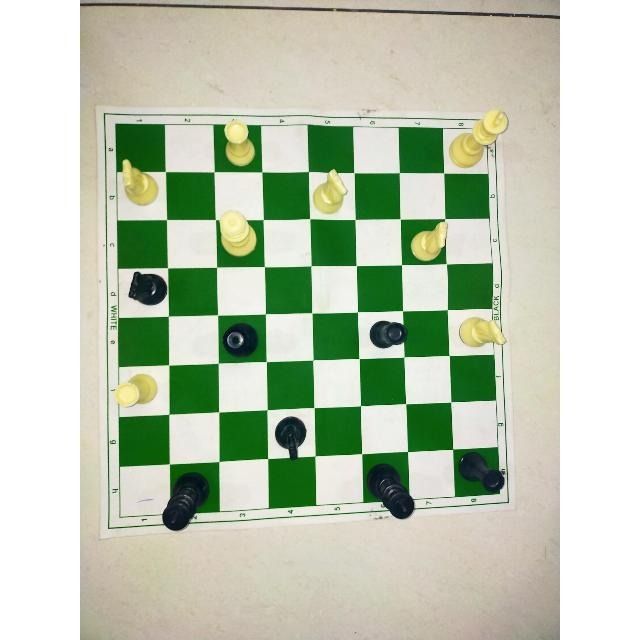black-king: (360, 454, 421, 525), (156, 465, 212, 535)
black-knight: (265, 410, 314, 464), (126, 261, 169, 311)
black-queen: (218, 313, 266, 362)
black-rook: (454, 445, 508, 499), (362, 314, 412, 358)
white-king: (443, 100, 512, 174)
white-knight: (117, 151, 163, 216), (454, 306, 512, 356), (307, 163, 350, 217), (408, 217, 452, 267)
white-queen: (216, 202, 261, 261)
white-rook: (112, 367, 168, 415), (218, 115, 260, 169)
